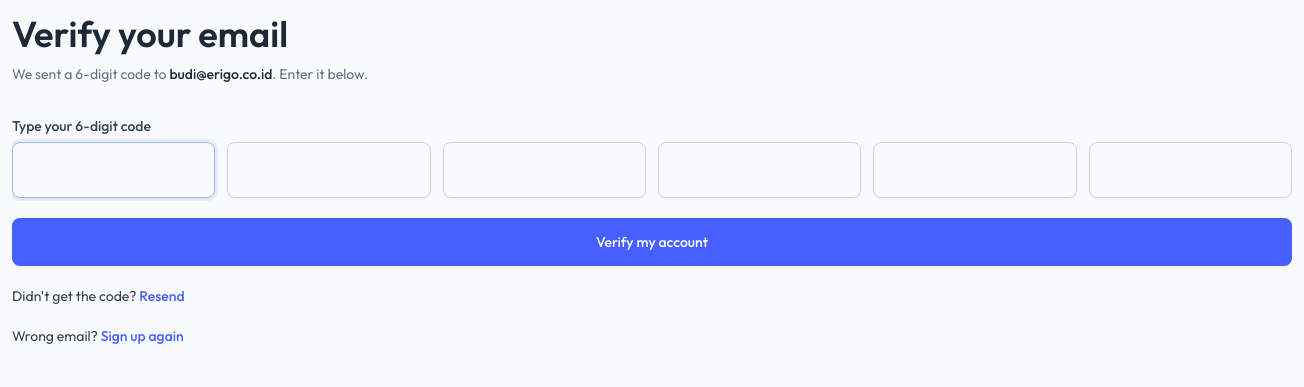
Test: the verify-email screen (P1-087) › resends the code, then waits before allowing another
The image size is (1304, 387).
Click the button "Resend": (162, 296) [139,286,184,306]
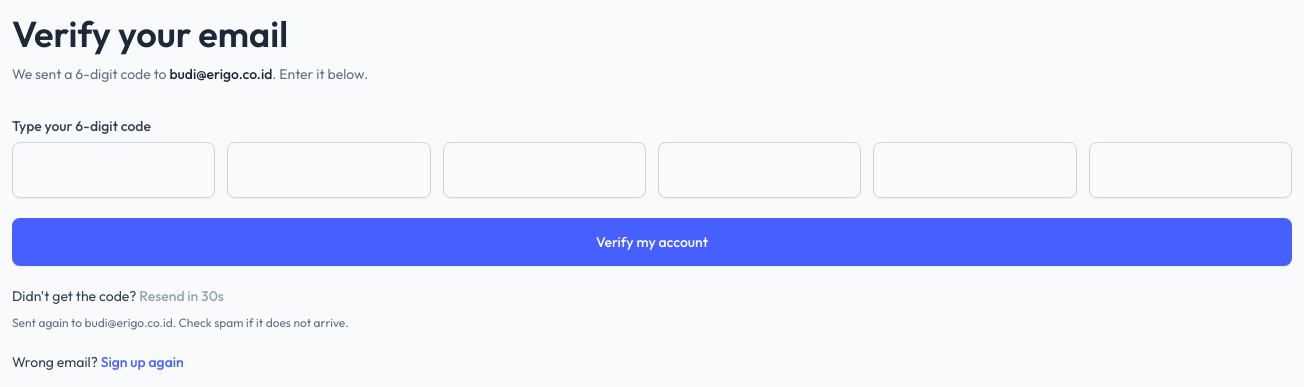
Check: the message shows "Sent again to budi@erigo.co.id", box [12,315,349,330]
Check: the button "Resend in 30s" is disabled, box [139,286,224,306]
